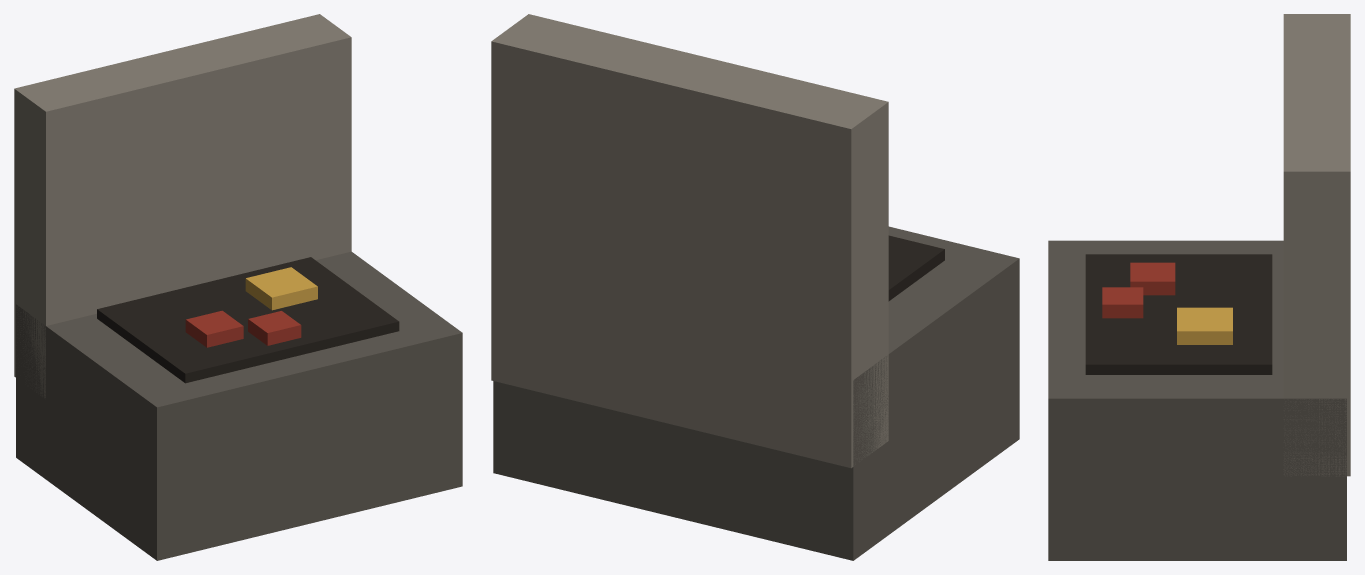
Rendered from forge.glb.
3 views of the same model, side by side, from view 1: azimuth 30°, elevation 25°; view 2: azimuth 150°, elevation 25°; view 3: azimuth 270°, elevation 25° (orthographic). The views are drawn at different scales.
Parts seen in each view (by area): view 1: Steinschild, Essensockel, Kohle, Glut.001, Glut, Glut.002; view 2: Steinschild, Essensockel, Kohle; view 3: Essensockel, Steinschild, Kohle, Glut.001, Glut, Glut.002.
Part boxes in pixels (bbox=[...]): Steinschild: bbox=[14, 14, 351, 398]; Essensockel: bbox=[16, 251, 462, 560]; Kohle: bbox=[97, 257, 399, 383]; Glut.001: bbox=[245, 267, 317, 310]; Glut: bbox=[185, 310, 243, 347]; Glut.002: bbox=[248, 311, 301, 345]; Steinschild: bbox=[491, 14, 888, 468]; Essensockel: bbox=[493, 226, 1019, 560]; Kohle: bbox=[888, 235, 944, 301]; Essensockel: bbox=[1048, 240, 1346, 560]; Steinschild: bbox=[1283, 14, 1350, 476]; Kohle: bbox=[1085, 254, 1272, 374]; Glut.001: bbox=[1177, 307, 1232, 344]; Glut: bbox=[1130, 262, 1175, 295]; Glut.002: bbox=[1102, 287, 1143, 318].
Size of the model in its own units: 1 by 1.15 by 0.81.
